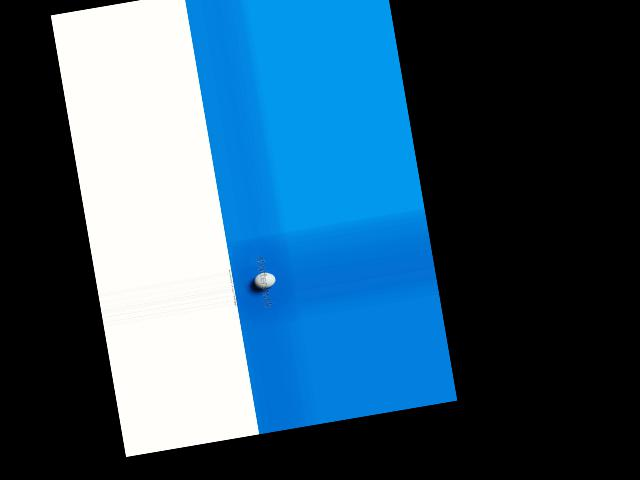egg: (252, 271, 277, 290)
